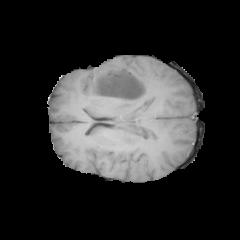glioma: (87, 67, 148, 165)
